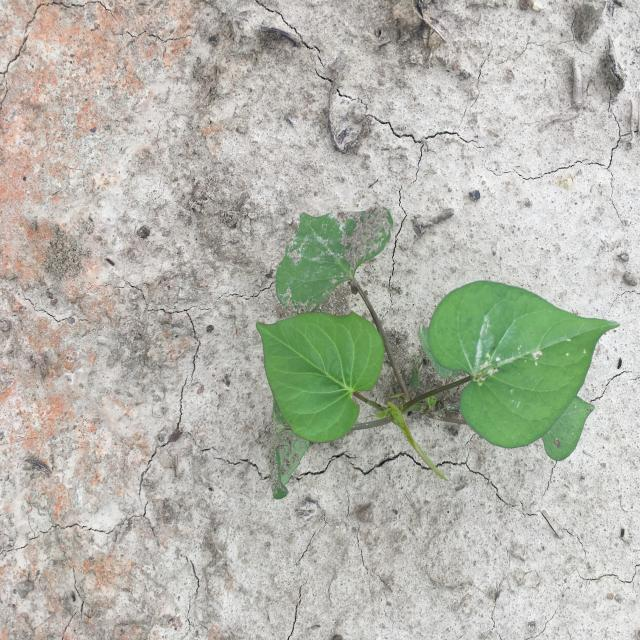MorningGlory: (256, 205, 622, 500)
